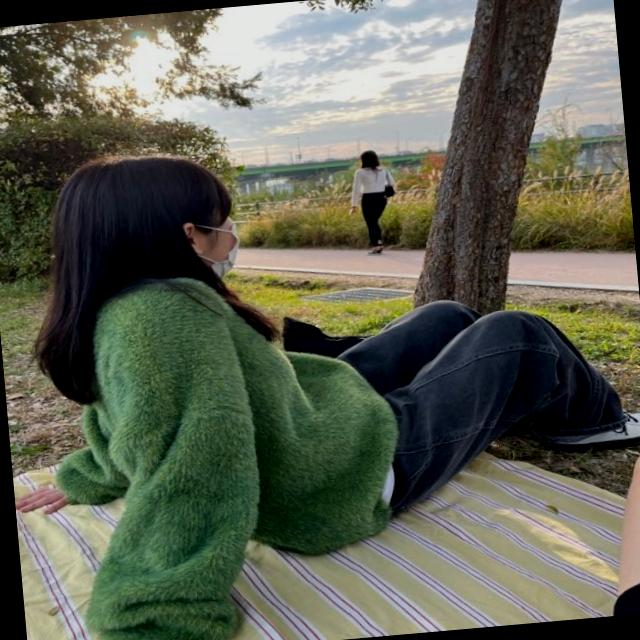denimpants: (337, 280, 640, 526)
sweater: (30, 244, 425, 640)
